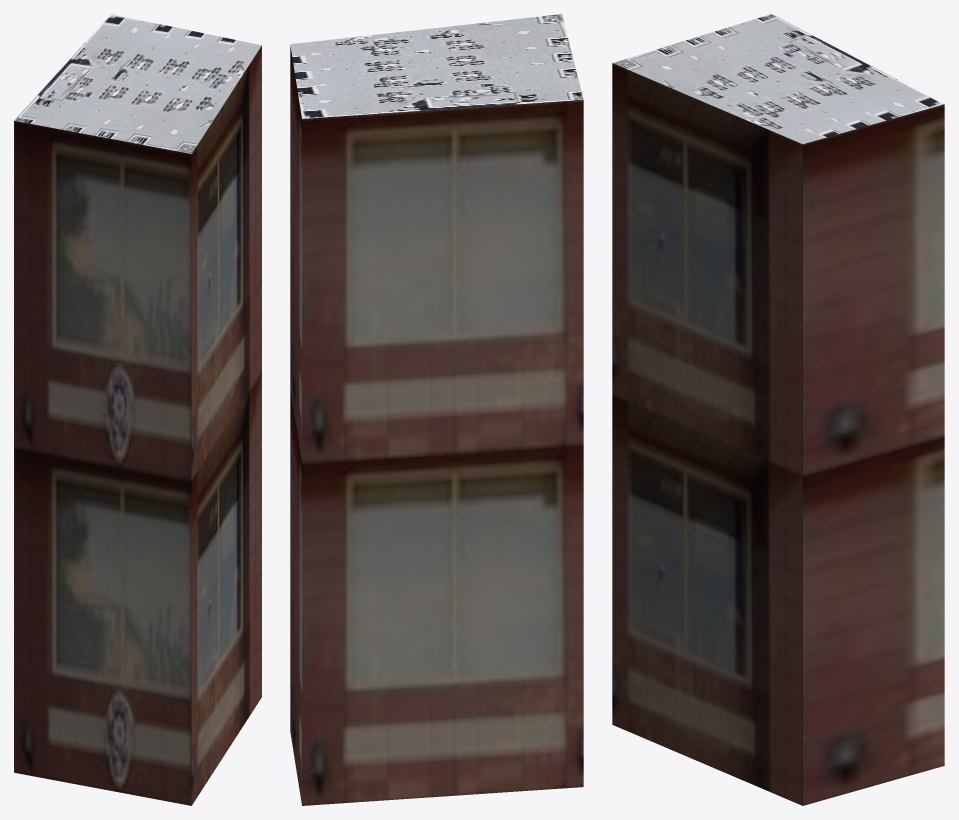
The model's file is ResTex__3512.fbx.
3 renders of one model, left to right at view 1: azimuth 30°, elevation 25°; view 2: azimuth 150°, elevation 25°; view 3: azimuth 270°, elevation 25°, orthographic. The views are drawn at different scales.
Visible parts, largest first — view 1: CityEngineMaterial_13_m, CityEngineMaterial_8_m; view 2: CityEngineMaterial_13_m, CityEngineMaterial_8_m; view 3: CityEngineMaterial_13_m, CityEngineMaterial_8_m.
Part boxes in pixels (x1=…): CityEngineMaterial_13_m: x1=14, y1=45, x2=261, y2=805; CityEngineMaterial_8_m: x1=14, y1=14, x2=261, y2=153; CityEngineMaterial_13_m: x1=290, y1=46, x2=583, y2=805; CityEngineMaterial_8_m: x1=290, y1=14, x2=583, y2=118; CityEngineMaterial_13_m: x1=612, y1=63, x2=944, y2=805; CityEngineMaterial_8_m: x1=613, y1=14, x2=944, y2=144.
Size of the model in its own units: 2.53 by 6 by 2.73.
2 materials, 2 textured.
